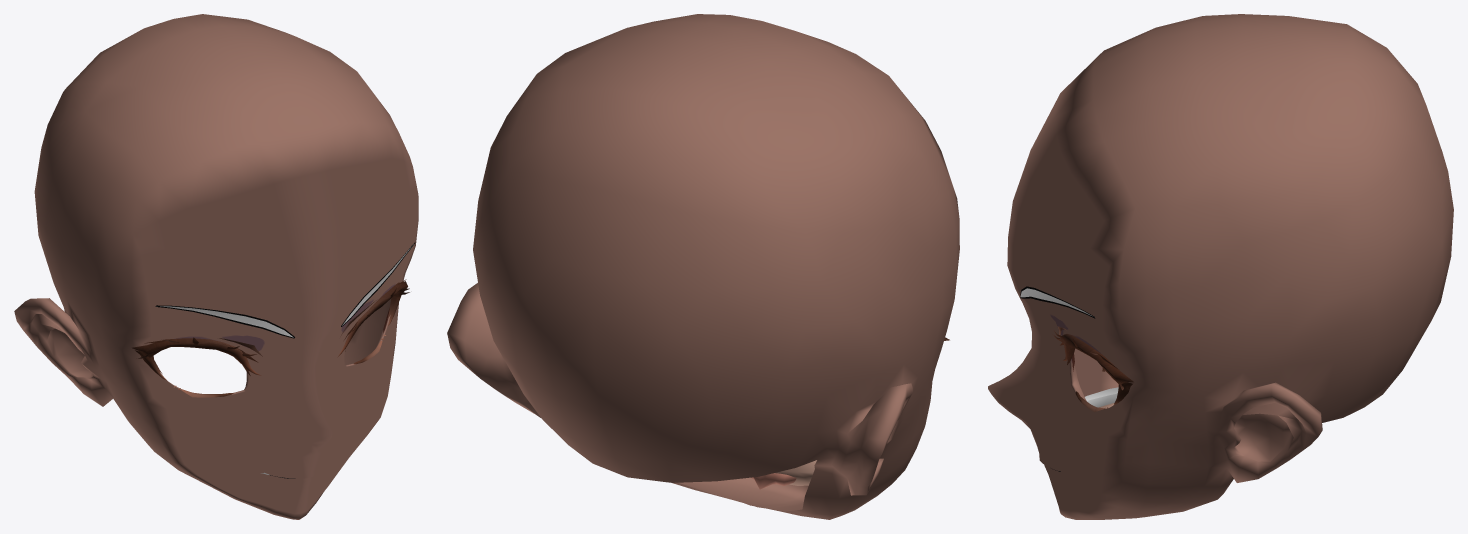
The model's file is 05_akaza_head.fbx.
The picture shows the model from 3 angles, left to right: view 1: azimuth 30°, elevation 25°; view 2: azimuth 150°, elevation 25°; view 3: azimuth 270°, elevation 25°; orthographic projection. The views are drawn at different scales.
Parts seen in each view (by area): view 1: head_Def; view 2: head_Def; view 3: head_Def.
Part boxes in pixels (bbox=[...]): head_Def: bbox=[14, 14, 418, 519]; head_Def: bbox=[447, 14, 959, 519]; head_Def: bbox=[988, 14, 1453, 519].
Bounding box in the file's own units: 17.01 × 19.53 × 17.24.
